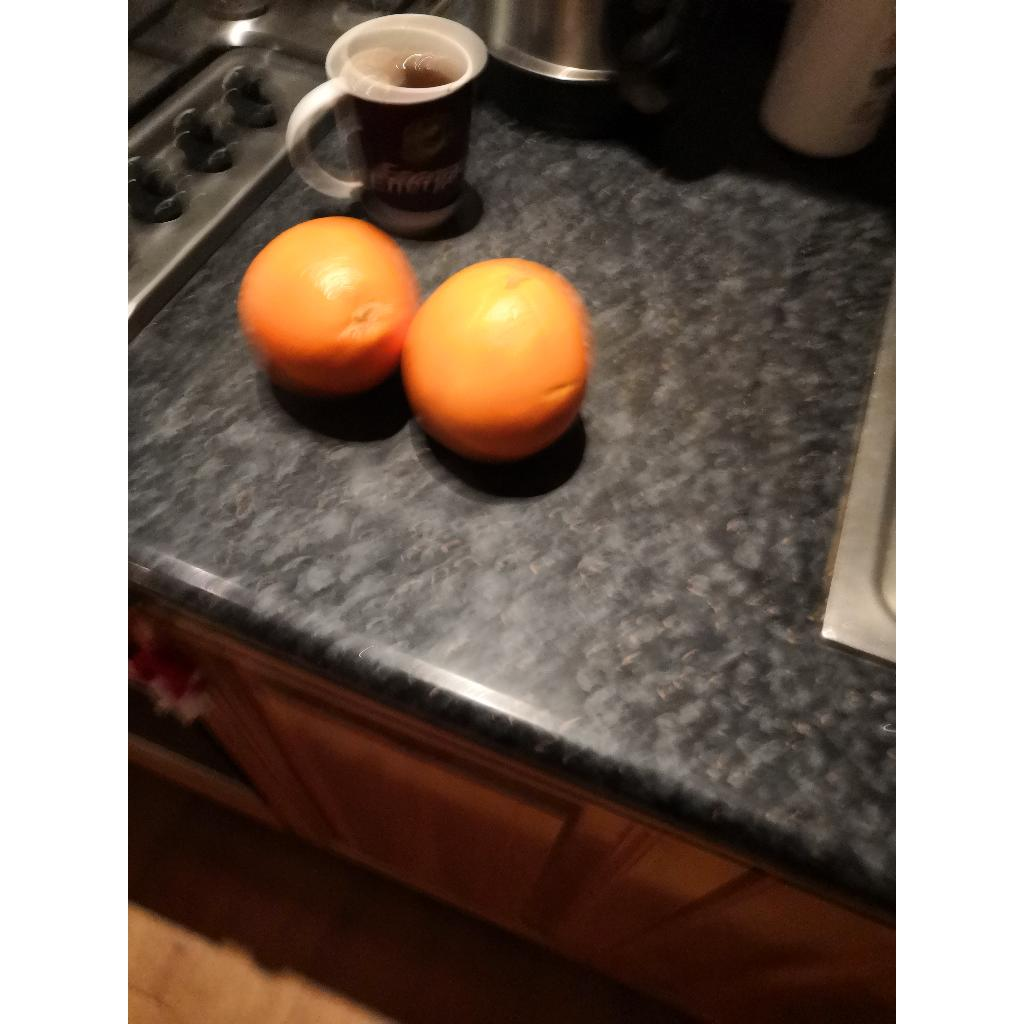orange: (400, 258, 592, 462), (238, 216, 420, 396)
